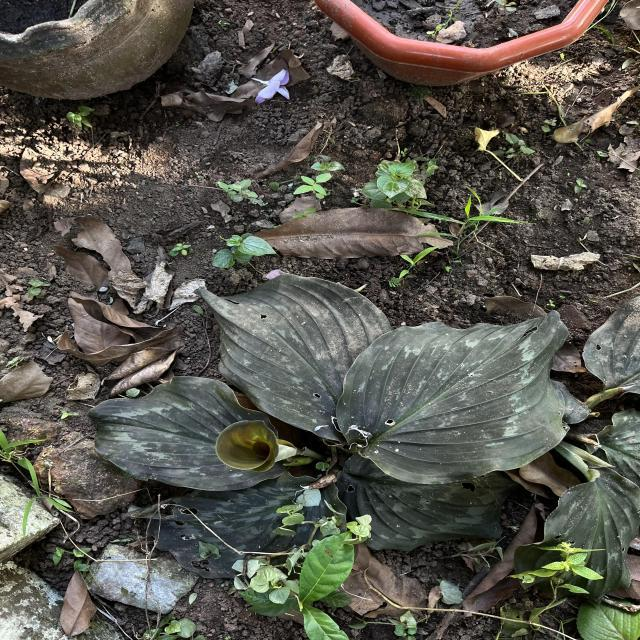Kaempferia galanga linn: (333, 308, 571, 488), (190, 270, 392, 447), (84, 372, 292, 492)
